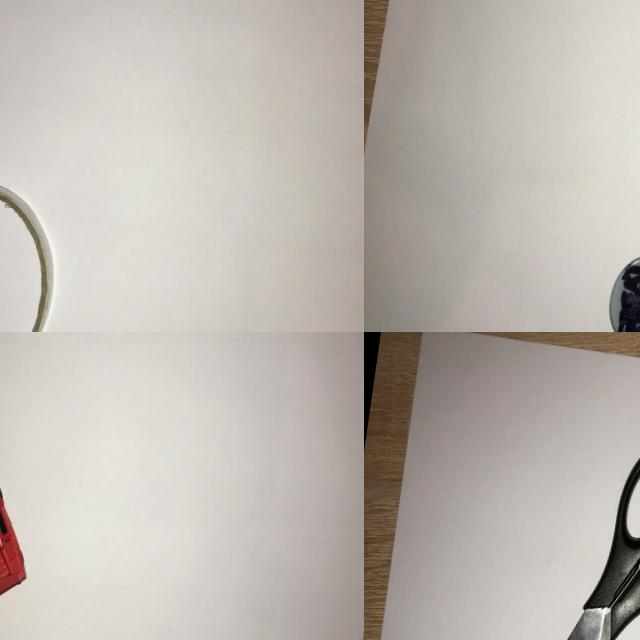car: (0, 458, 51, 615)
icon: (598, 243, 640, 332)
scissors: (465, 407, 640, 640)
scotch: (0, 162, 74, 332)
